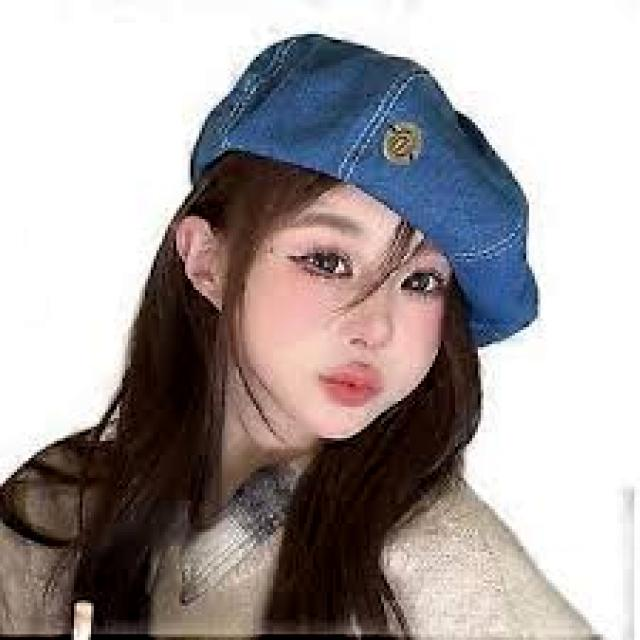hat: (191, 35, 537, 347)
